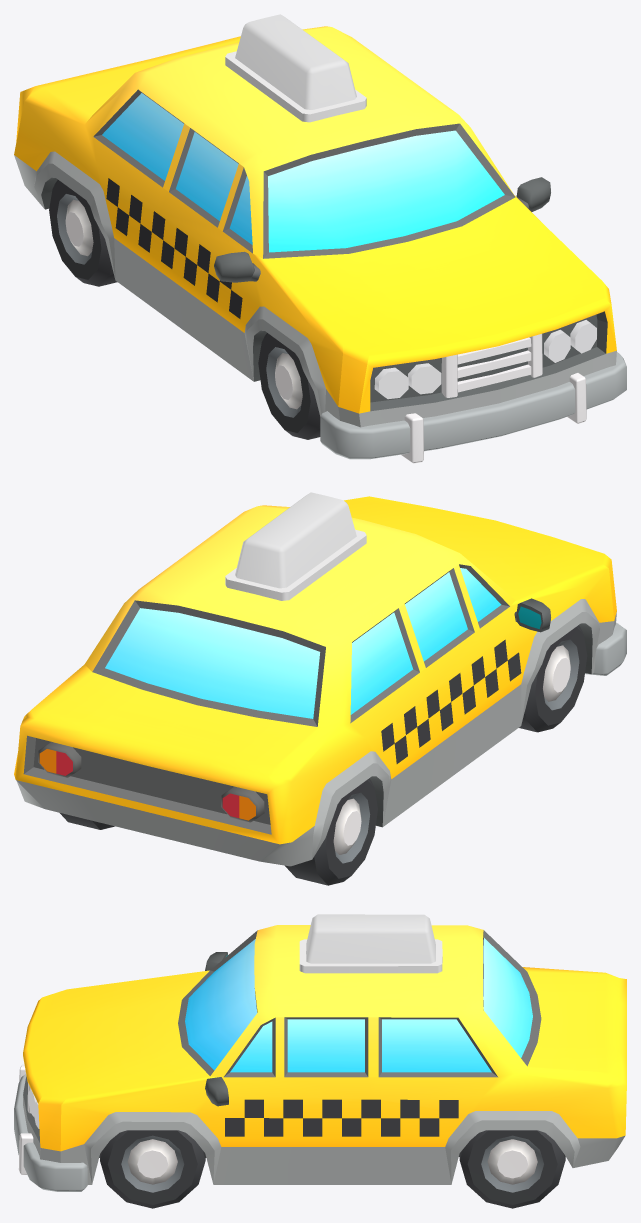
The model's file is city2-car-42.glb.
3 renders of one model, top to bottom at view 1: azimuth 30°, elevation 25°; view 2: azimuth 150°, elevation 25°; view 3: azimuth 270°, elevation 25°, orthographic. The views are drawn at different scales.
Parts seen in each view (by area): view 1: Cylinder.007, Wheel_158, Wheel_157; view 2: Cylinder.007, Wheel_158, Wheel_157; view 3: Cylinder.007, Wheel_159, Wheel_160.
Part boxes in pixels (<box>): Cylinder.007: <box>14,14,626,463</box>; Wheel_158: <box>49,180,117,286</box>; Wheel_157: <box>258,333,320,439</box>; Cylinder.007: <box>14,492,626,866</box>; Wheel_158: <box>285,778,377,885</box>; Wheel_157: <box>519,625,587,732</box>; Cylinder.007: <box>14,914,626,1191</box>; Wheel_159: <box>100,1130,205,1208</box>; Wheel_160: <box>459,1130,565,1208</box>.
Size of the model in its own units: 2.3 by 1.79 by 4.26.
2 materials, 2 textured.
